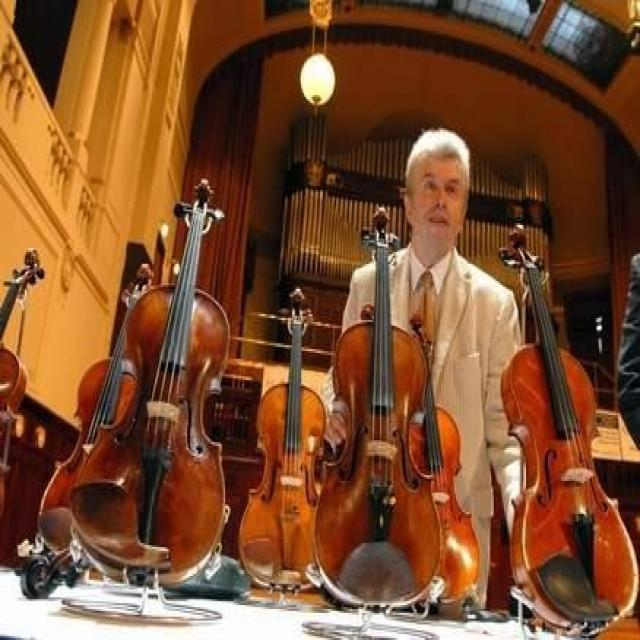violin: (64, 175, 230, 581), (500, 223, 640, 631), (313, 208, 440, 612), (36, 258, 155, 558), (237, 282, 325, 591), (406, 315, 483, 601), (0, 240, 47, 446)
